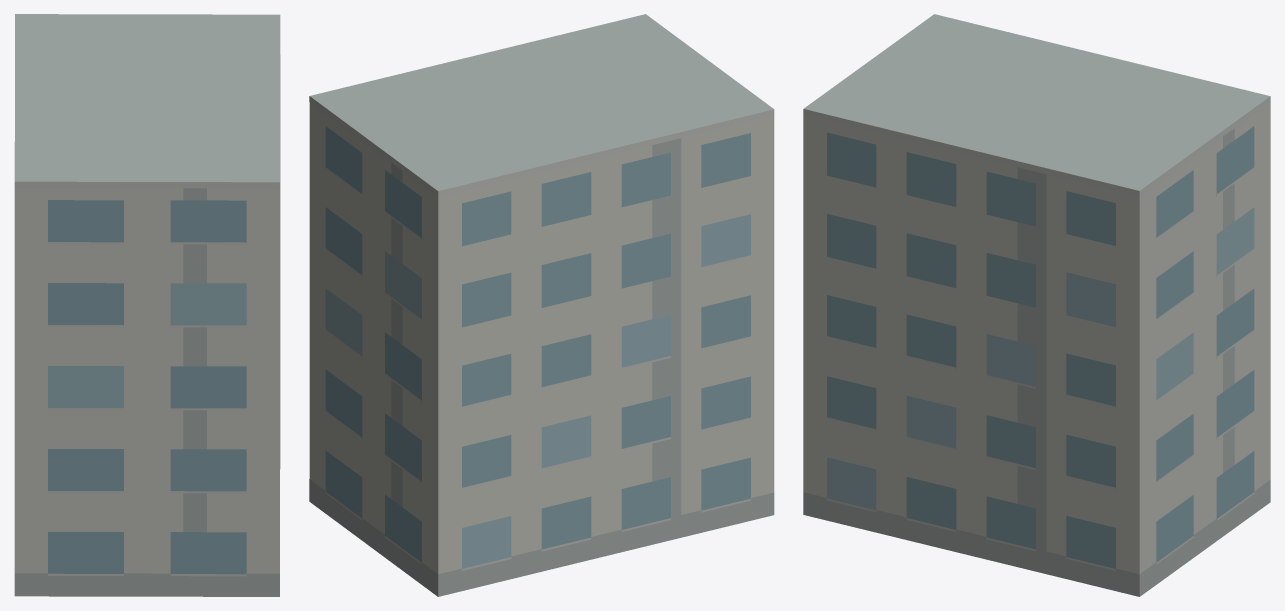
Rendered from survey-upis-32869801.glb.
3 views of the same model, side by side, from view 1: azimuth 30°, elevation 25°; view 2: azimuth 150°, elevation 25°; view 3: azimuth 270°, elevation 25° (orthographic). The views are drawn at different scales.
Parts seen in each view (by area): view 1: survey-upis-32869801.tmp; view 2: survey-upis-32869801.tmp; view 3: survey-upis-32869801.tmp.
Boxes of the visible parts, x1=… form: survey-upis-32869801.tmp: x1=14, y1=14, x2=280, y2=596; survey-upis-32869801.tmp: x1=309, y1=14, x2=774, y2=596; survey-upis-32869801.tmp: x1=803, y1=14, x2=1270, y2=596.
Size of the model in its own units: 15.05 by 16.1 by 16.8.
